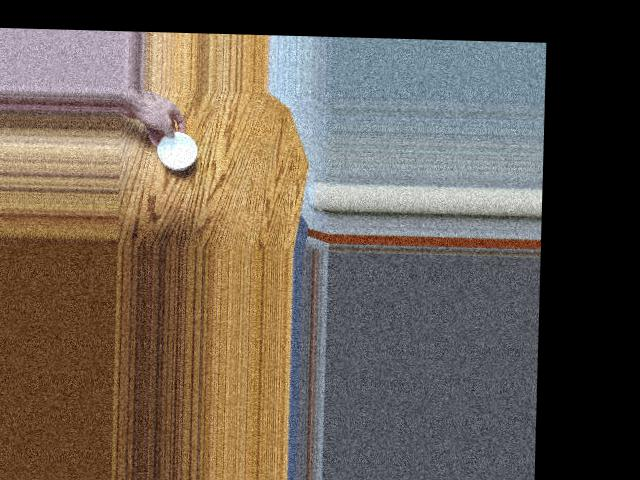cotage: (153, 123, 200, 169)
